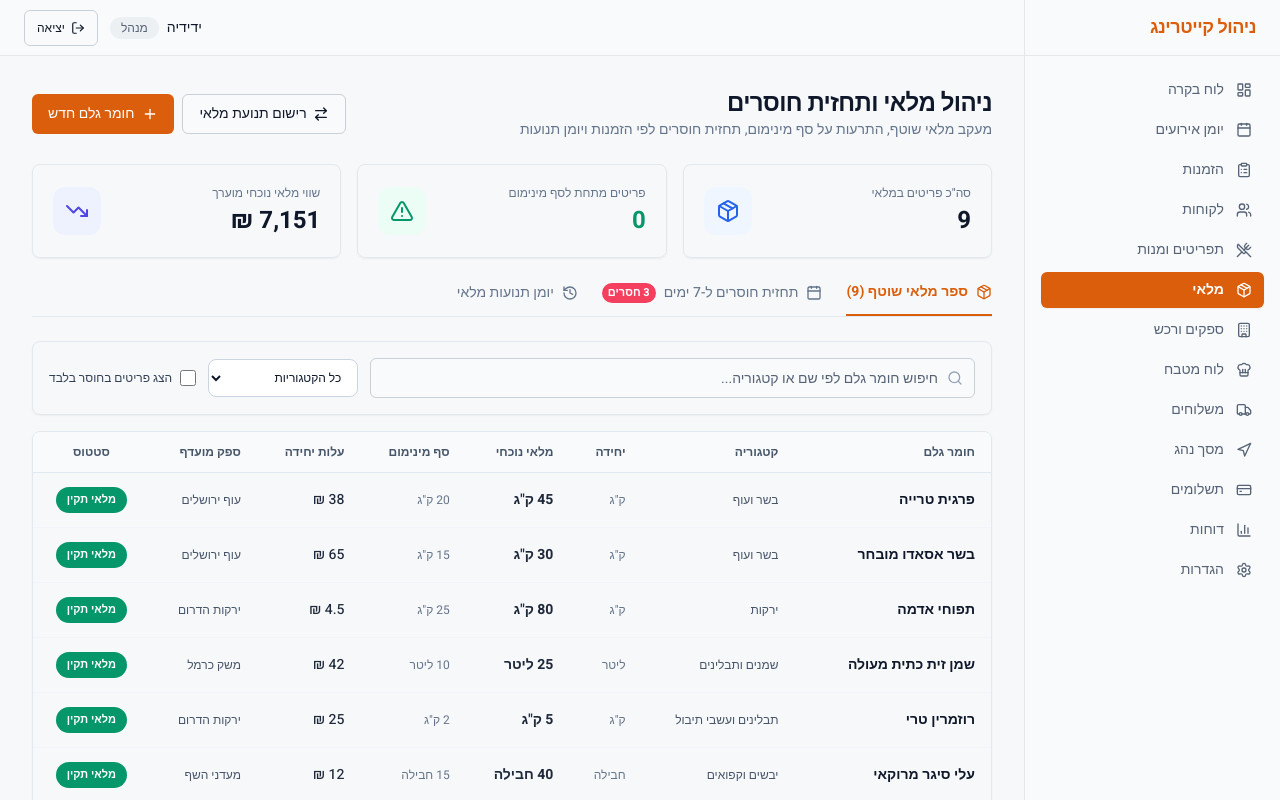
Test: S10 Inventory & Forecasting › navigates to shortage forecast tab and displays shortages
The width and height of the screenshot is (1280, 800).
Click the button "תחזית חוסרים ל-7 ימים 3 חסרים" at x=712, y=299, box [602, 282, 822, 316]
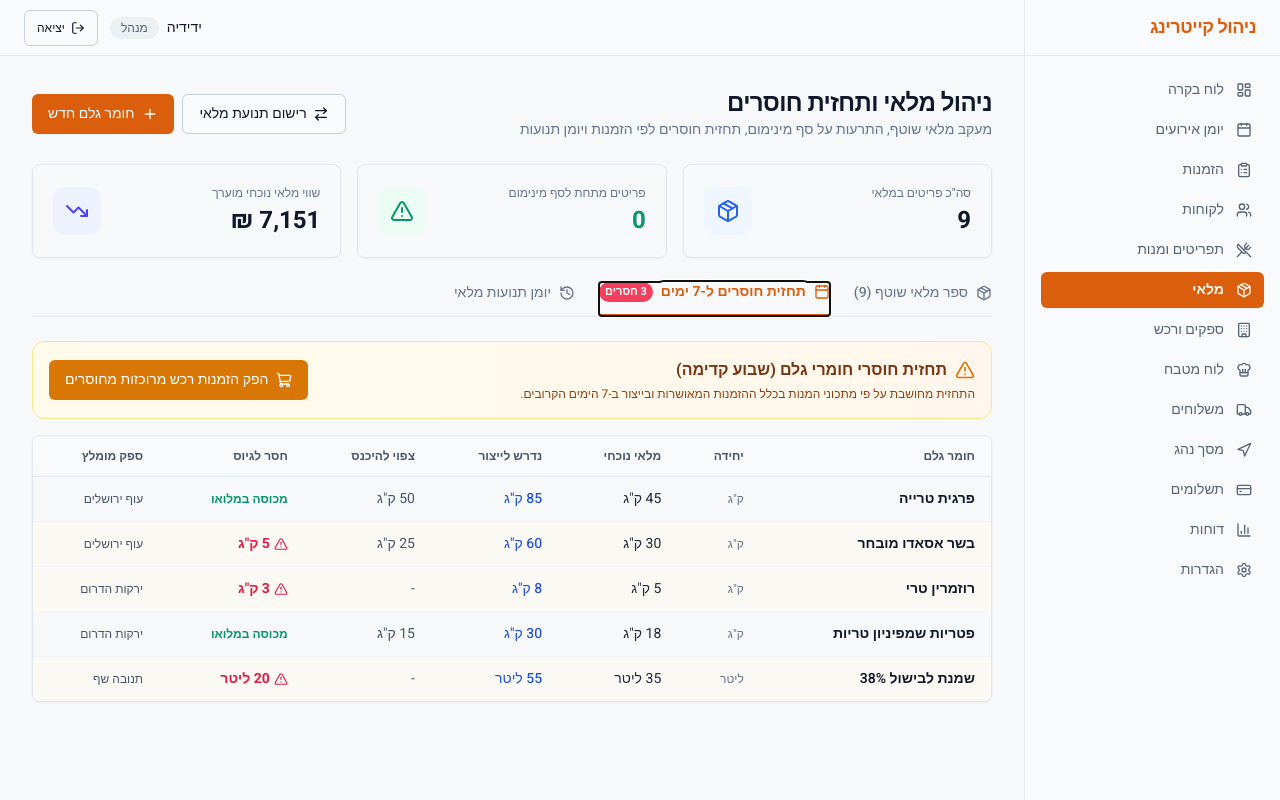
Check: the button "הפק הזמנות רכש מרוכזות מחוסרים" is shown, box [49, 360, 308, 400]
Check: the column heading "חסר לגיוס" is shown, box [159, 436, 304, 476]
